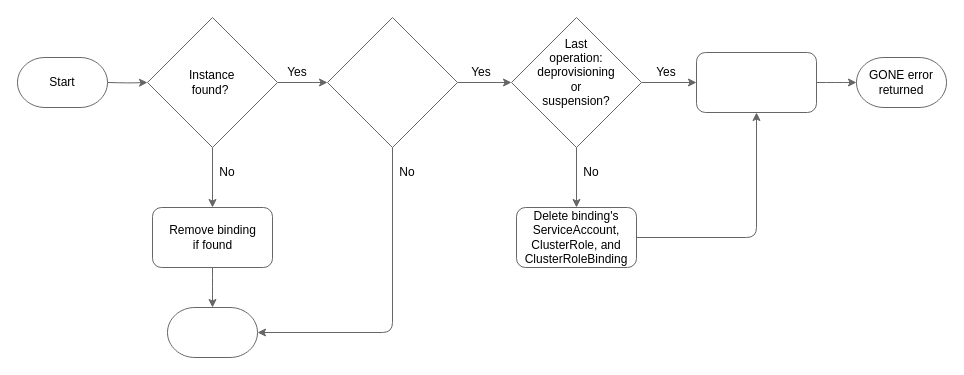
This 964x375 diagram has some shape labels left out. The shapes that lost their labels are listed below. From the top down, each one's box as (x1, y1, x2, y2) in pixels, then its label:
(326, 16, 458, 148): Binding found?
(696, 52, 816, 112): Remove Binding
(166, 306, 258, 358): Error returned
